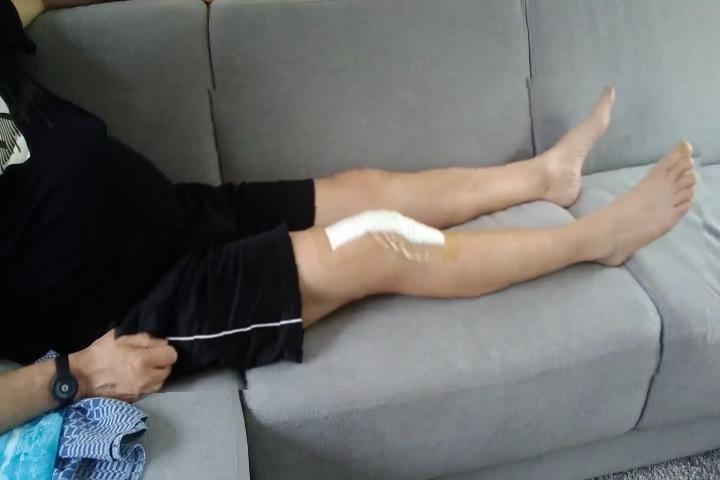lower_body: (109, 78, 706, 390)
